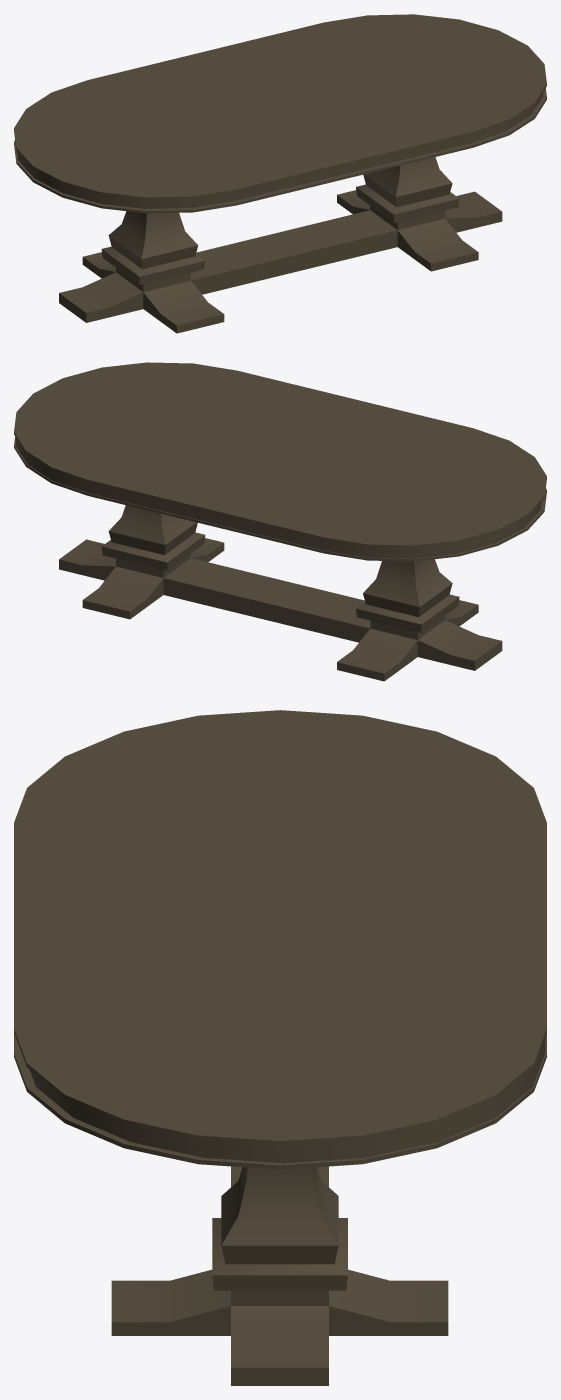
The model's file is Table_RoundLarge.glb.
3 renders of one model, top to bottom at view 1: azimuth 30°, elevation 25°; view 2: azimuth 150°, elevation 25°; view 3: azimuth 270°, elevation 25°, orthographic. The views are drawn at different scales.
Visible parts, largest first — view 1: Table_RoundLarge_Cylinder.013; view 2: Table_RoundLarge_Cylinder.013; view 3: Table_RoundLarge_Cylinder.013.
Boxes of the visible parts, box(x1,y1,x2,y2) form: Table_RoundLarge_Cylinder.013: box(14, 14, 546, 333); Table_RoundLarge_Cylinder.013: box(14, 362, 546, 681); Table_RoundLarge_Cylinder.013: box(14, 710, 546, 1385).
Size of the model in its own units: 3.71 by 1.12 by 1.94.
